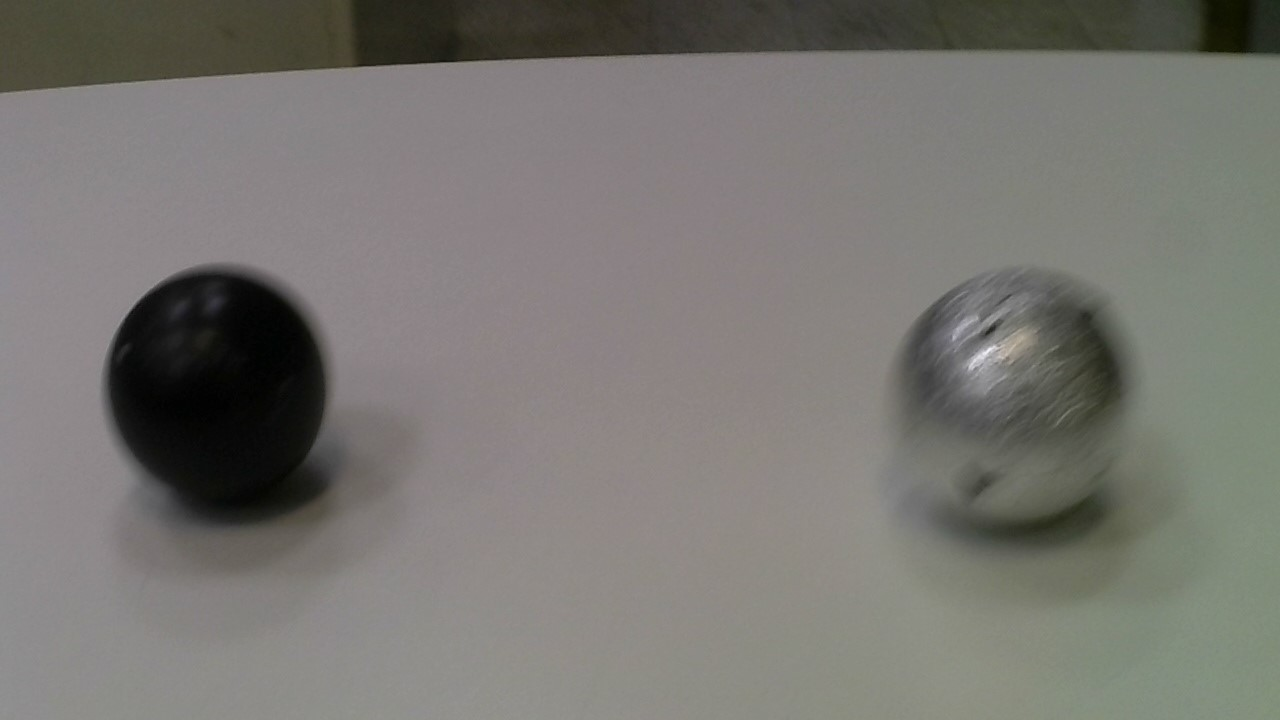black_ball: (91, 256, 343, 510)
silver_ball: (888, 254, 1142, 537)
